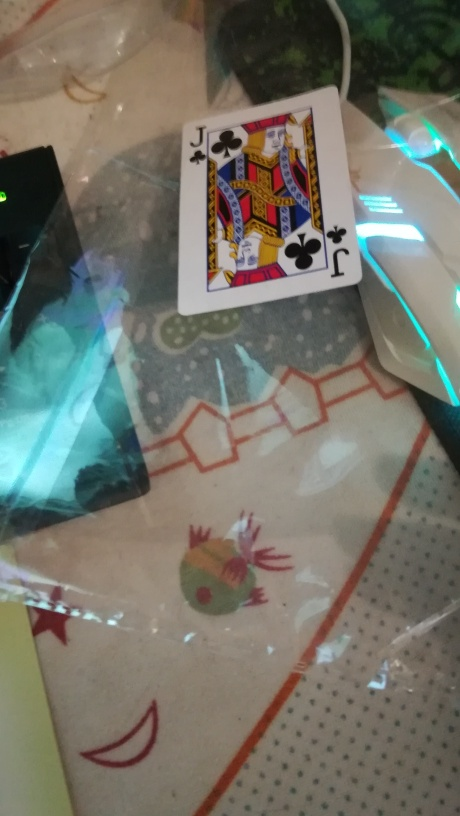mh j: (175, 83, 362, 314)
